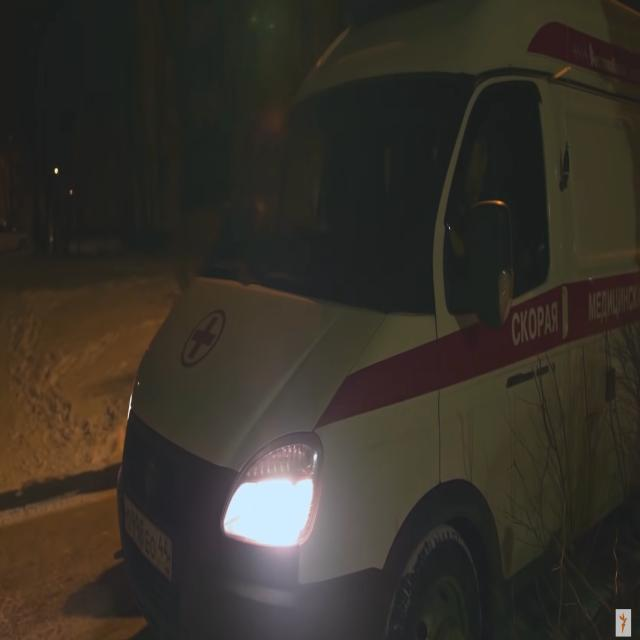ambulance: (114, 1, 640, 640)
